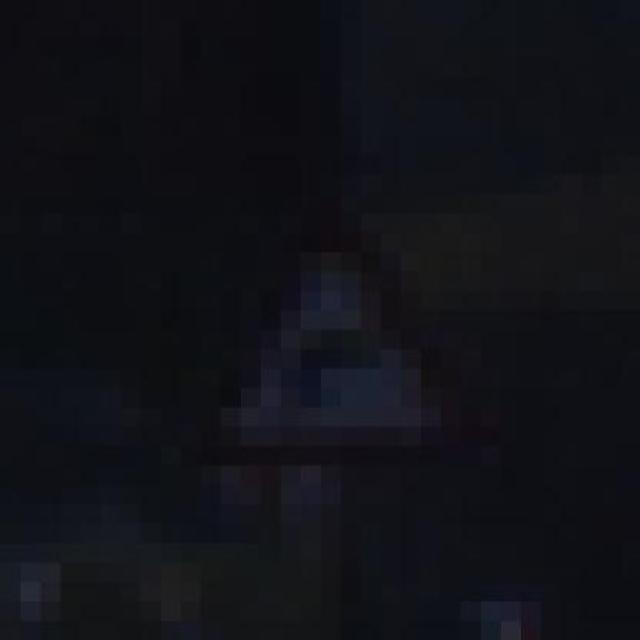Dangerous Rright Curve Ahead: (180, 193, 480, 484)
